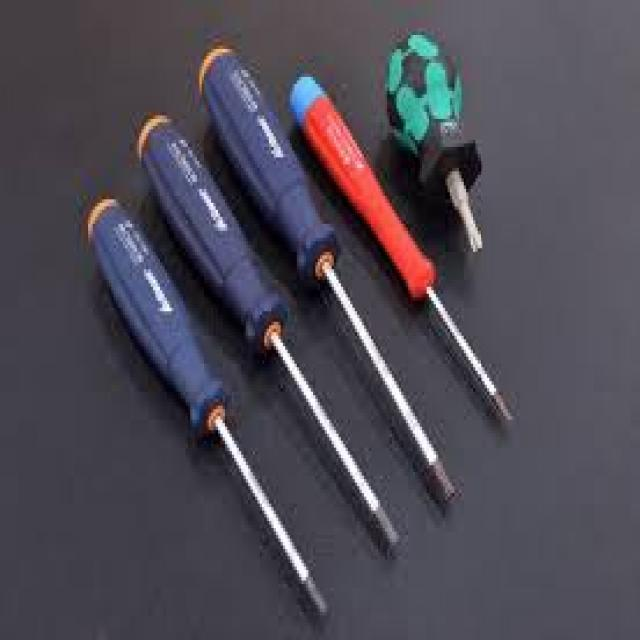screwdriver: (196, 43, 456, 506), (136, 108, 402, 552), (86, 198, 332, 628), (288, 71, 514, 422), (386, 29, 486, 260)
